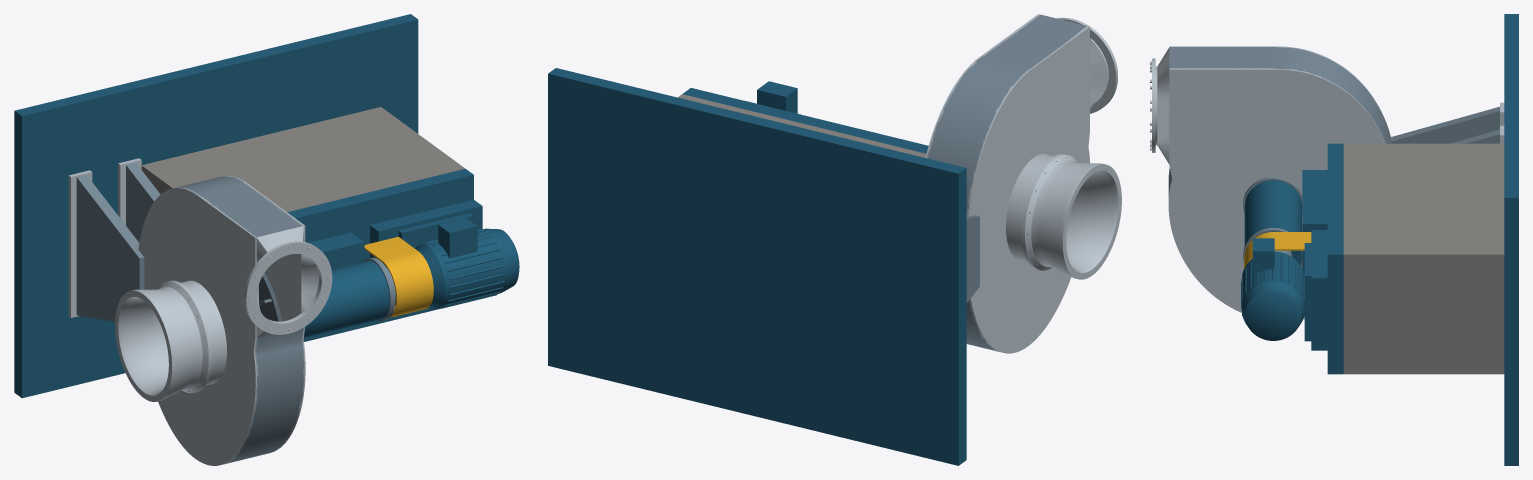
3 views of the same model, side by side, from view 1: azimuth 30°, elevation 25°; view 2: azimuth 150°, elevation 25°; view 3: azimuth 270°, elevation 25° (orthographic). The views are drawn at different scales.
Parts seen in each view (by area): view 1: 支撑_整机底座, 本体_进风侧蜗壳板, 传动底座_主座, 接口_中空喇叭口及进风法兰, 本体_蜗壳围板, 蜗壳支架_支脚, 传动底座_安装板, 接口_上出风圆法兰及过渡管, 驱动_电机外壳, 驱动_轴承座壳体, 护罩_联轴器拱形罩, 本体_传动侧蜗壳板 (+6 smaller); view 2: 支撑_整机底座, 本体_进风侧蜗壳板, 接口_中空喇叭口及进风法兰, 本体_蜗壳围板, 传动底座_安装板, 接口_上出风圆法兰及过渡管, 传动底座_主座, 蜗壳支架_支脚, 驱动_电机接线盒; view 3: 传动底座_主座, 本体_传动侧蜗壳板, 支撑_整机底座, 本体_蜗壳围板, 驱动_电机外壳, 传动底座_安装板, 驱动_轴承座壳体, 蜗壳支架_支脚, 传动底座_电机抬高座, 接口_上出风圆法兰及过渡管, 传动底座_轴承座底脚, 护罩_联轴器拱形罩 (+3 smaller).
Boxes of the visible parts, x1=… form: 支撑_整机底座: x1=14, y1=14, x2=418, y2=398; 本体_进风侧蜗壳板: x1=138, y1=187, x2=258, y2=465; 传动底座_主座: x1=141, y1=107, x2=464, y2=211; 接口_中空喇叭口及进风法兰: x1=115, y1=280, x2=226, y2=401; 本体_蜗壳围板: x1=175, y1=176, x2=304, y2=464; 蜗壳支架_支脚: x1=76, y1=162, x2=160, y2=321; 传动底座_安装板: x1=287, y1=168, x2=473, y2=341; 接口_上出风圆法兰及过渡管: x1=244, y1=226, x2=332, y2=337; 驱动_电机外壳: x1=415, y1=228, x2=519, y2=309; 驱动_轴承座壳体: x1=304, y1=260, x2=389, y2=337; 护罩_联轴器拱形罩: x1=364, y1=236, x2=433, y2=317; 本体_传动侧蜗壳板: x1=222, y1=175, x2=305, y2=451; 支撑_整机底座: x1=548, y1=68, x2=966, y2=465; 本体_进风侧蜗壳板: x1=966, y1=26, x2=1090, y2=353; 接口_中空喇叭口及进风法兰: x1=1006, y1=154, x2=1121, y2=279; 本体_蜗壳围板: x1=927, y1=14, x2=1086, y2=351; 传动底座_安装板: x1=682, y1=88, x2=928, y2=153; 接口_上出风圆法兰及过渡管: x1=1057, y1=17, x2=1117, y2=113; 传动底座_主座: x1=678, y1=94, x2=926, y2=157; 蜗壳支架_支脚: x1=966, y1=215, x2=979, y2=303; 驱动_电机接线盒: x1=757, y1=81, x2=797, y2=113; 传动底座_主座: x1=1343, y1=143, x2=1504, y2=374; 本体_传动侧蜗壳板: x1=1168, y1=68, x2=1385, y2=319; 支撑_整机底座: x1=1504, y1=14, x2=1518, y2=465; 本体_蜗壳围板: x1=1168, y1=47, x2=1391, y2=197; 驱动_电机外壳: x1=1241, y1=251, x2=1304, y2=340; 传动底座_安装板: x1=1327, y1=143, x2=1343, y2=374; 驱动_轴承座壳体: x1=1244, y1=180, x2=1301, y2=264; 蜗壳支架_支脚: x1=1391, y1=106, x2=1499, y2=143; 传动底座_电机抬高座: x1=1311, y1=230, x2=1327, y2=350; 接口_上出风圆法兰及过渡管: x1=1152, y1=47, x2=1169, y2=163; 传动底座_轴承座底脚: x1=1302, y1=170, x2=1327, y2=274; 护罩_联轴器拱形罩: x1=1244, y1=232, x2=1311, y2=268.
Bounding box in the file's own units: 3 × 2.04 × 2.54.
